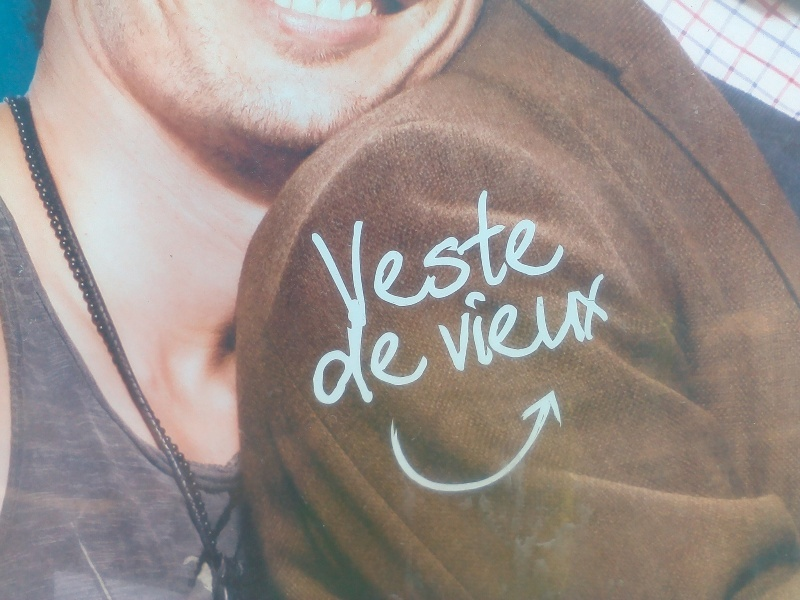text: (321, 173, 336, 333), (337, 173, 352, 333), (353, 173, 368, 333), (369, 173, 384, 333), (385, 173, 400, 333), (401, 173, 416, 333), (417, 173, 432, 333), (433, 173, 448, 333), (449, 173, 464, 333), (465, 173, 480, 333), (481, 173, 496, 333), (497, 173, 512, 333), (513, 173, 528, 333), (529, 173, 544, 333), (545, 173, 560, 333), (308, 173, 320, 333), (433, 252, 448, 377), (449, 252, 464, 377), (465, 252, 480, 377), (481, 252, 496, 377), (497, 252, 512, 377), (513, 252, 528, 377), (529, 252, 544, 377), (545, 252, 560, 377), (561, 252, 576, 377), (577, 252, 592, 377), (593, 252, 608, 377), (609, 252, 624, 377), (561, 173, 572, 333), (305, 312, 320, 425), (321, 312, 336, 425), (337, 312, 352, 425), (353, 312, 368, 425), (369, 312, 384, 425), (385, 312, 400, 425), (401, 312, 416, 425), (417, 312, 432, 425), (427, 252, 432, 377), (625, 252, 628, 377), (433, 312, 436, 425)
